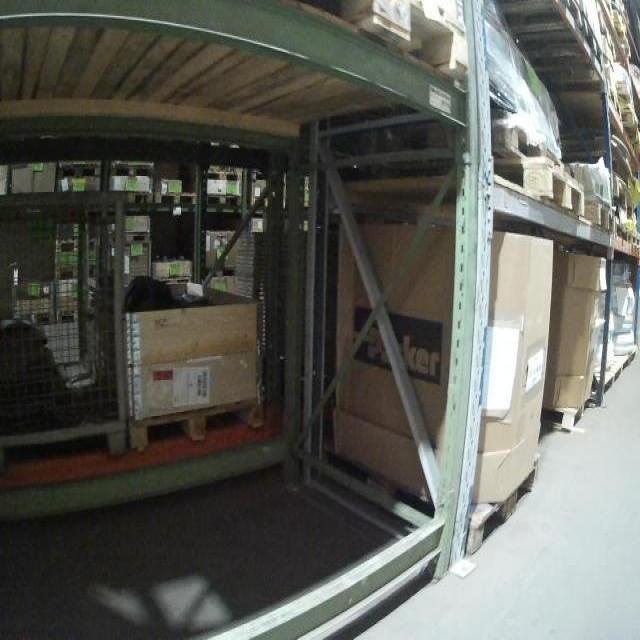pallet: (326, 447, 544, 555), (340, 154, 590, 219), (313, 3, 480, 90), (126, 392, 268, 452), (544, 393, 595, 434), (587, 196, 616, 240), (592, 358, 623, 395), (151, 187, 197, 209), (56, 160, 104, 177), (198, 170, 245, 187), (11, 310, 55, 328), (56, 309, 103, 325), (201, 193, 244, 210), (108, 161, 152, 177), (54, 236, 102, 250), (111, 189, 152, 205), (56, 264, 102, 278), (106, 229, 151, 243), (153, 274, 193, 286), (620, 347, 637, 372), (200, 267, 239, 277), (629, 231, 639, 248)
stillage: (2, 190, 142, 476)
